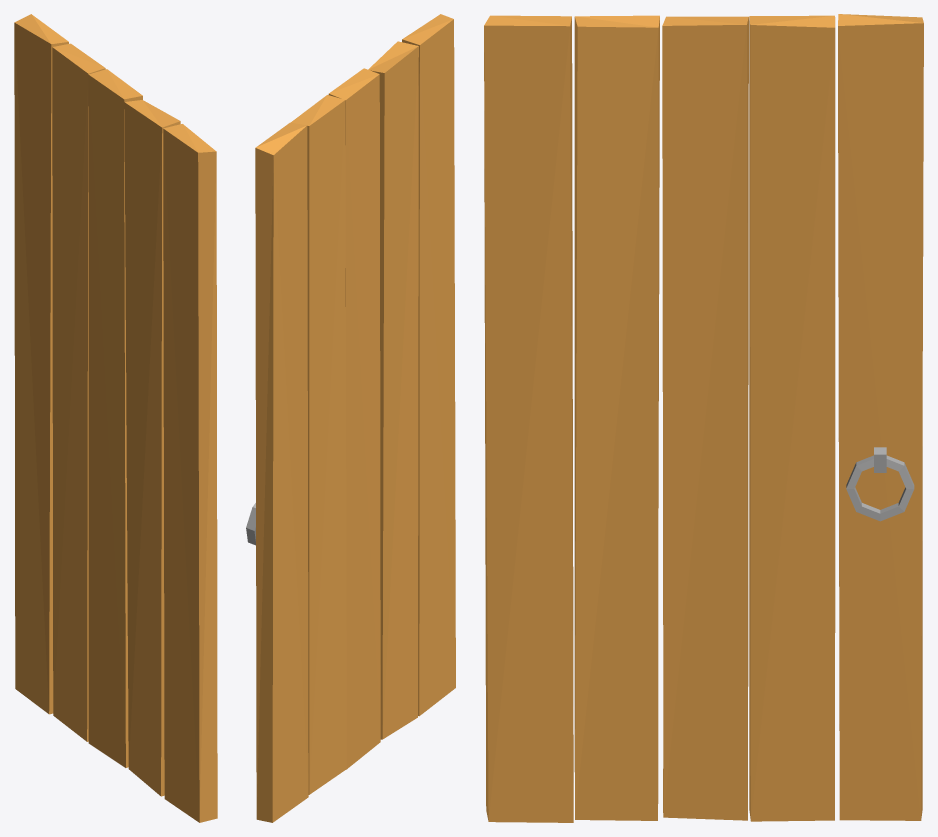
File: left_door.fbx
The picture shows the model from 3 angles, left to right: view 1: azimuth 30°, elevation 25°; view 2: azimuth 150°, elevation 25°; view 3: azimuth 270°, elevation 25°; orthographic projection. The views are drawn at different scales.
Parts seen in each view (by area): view 1: left_door; view 2: left_door; view 3: left_door.
Part boxes in pixels (x1,y1,x2,y2): left_door: (14,14,217,822); left_door: (246,14,455,822); left_door: (484,14,923,822).
Bounding box in the file's own units: 0.1104 × 2.06 × 1.03.
